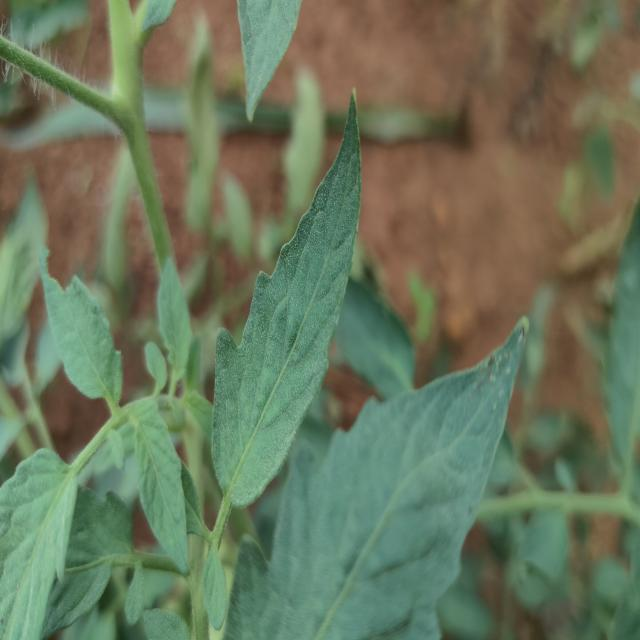tomato_healthy: (225, 326, 525, 640), (211, 97, 361, 507), (0, 449, 77, 640), (39, 247, 122, 412), (130, 399, 188, 574)
